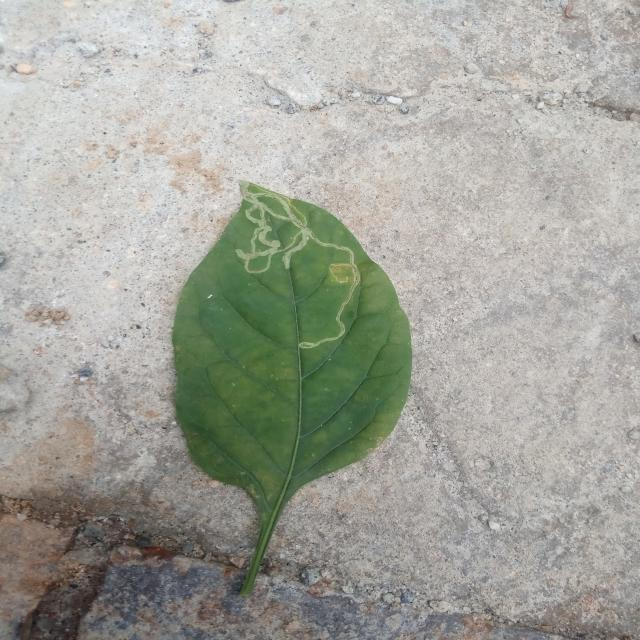ganike: (173, 181, 412, 595)
